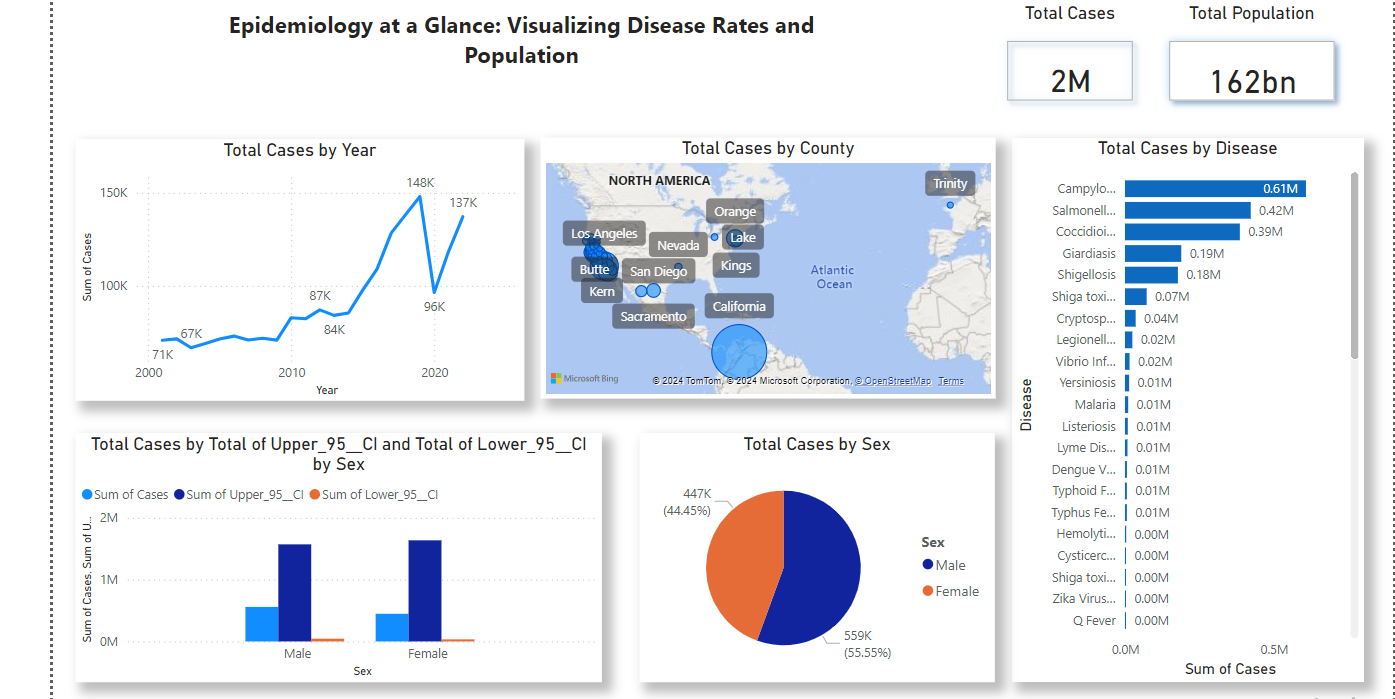

The dashboard page shown, as its layout file describes it:
{"tool":"powerbi","page":{"name":"Page 1","canvas":[1280,720],"ordinal":0},"visuals":[{"type":"cardVisual","title":"Total Cases","fields":{"Data":["Sum(Table1.Cases)"]},"box":[893.4,50,154.4,110.5],"z":0},{"type":"cardVisual","title":"Total Population","fields":{"Data":["Sum(Table1.Population)"]},"box":[1047.8,50,192.3,110.5],"z":1},{"type":"barChart","title":"Total Cases by Disease","fields":{"Category":["Table1.Disease"],"Y":["Sum(Table1.Cases)"]},"box":[914.7,179.5,336.4,519.7],"z":2},{"type":"lineChart","title":"Total Cases by Year","fields":{"Category":["Table1.Year"],"Y":["Sum(Table1.Cases)"]},"box":[21.2,180.2,428.5,249.8],"z":3},{"type":"lineClusteredColumnComboChart","title":"Total Cases by Total of Upper_95__CI and Total of Lower_95__CI by Sex","fields":{"Category":["Table1.Sex"],"Y":["Sum(Table1.Cases)","Sum(Table1.Upper_95__CI)","Sum(Table1.Lower_95__CI)"]},"box":[21.2,461.8,502.7,237.7],"z":4},{"type":"map","title":"Total Cases by County","fields":{"Category":["Table1.County"],"Size":["Sum(Table1.Cases)"]},"box":[464.9,179.5,434.6,249.5],"z":5},{"type":"pieChart","title":"Total Cases by Sex","fields":{"Category":["Table1.Sex"],"Y":["Sum(Table1.Cases)"]},"box":[560.3,461.8,339.2,237.7],"z":6},{"type":"textbox","box":[131.7,50,631.4,75.7],"z":7}]}

Visuals, with their boxes in screenshot pixels (x1, y1, x2, y2):
"Total Cases" cardVisual: 986, 15, 1145, 128
"Total Population" cardVisual: 1145, 15, 1342, 128
"Total Cases by Disease" barChart: 1008, 148, 1354, 682
"Total Cases by Year" lineChart: 91, 149, 531, 405
"Total Cases by Total of Upper_95__CI and Total of Lower_95__CI by Sex" lineClusteredColumnComboChart: 91, 438, 607, 682
"Total Cases by County" map: 546, 148, 993, 404
"Total Cases by Sex" pieChart: 644, 438, 993, 682
textbox: 204, 15, 853, 93
